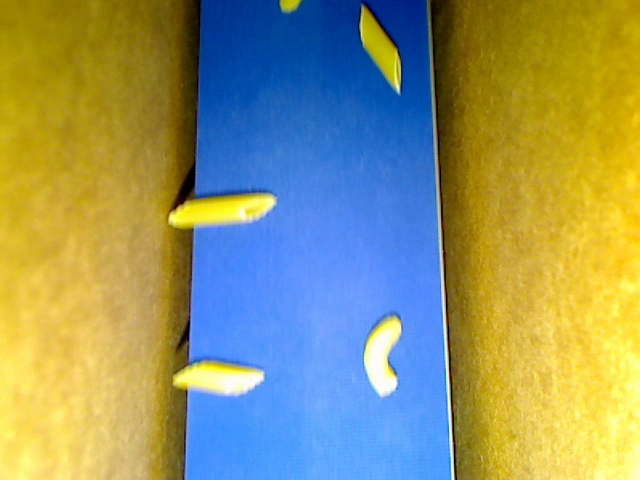elbow: (363, 314, 399, 396)
penne: (167, 189, 278, 228), (358, 4, 402, 93), (173, 360, 264, 397)
